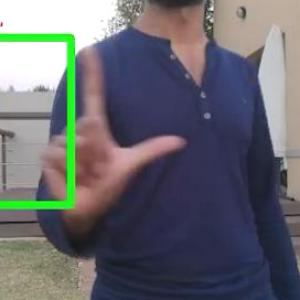land_hand: (31, 38, 196, 227)
